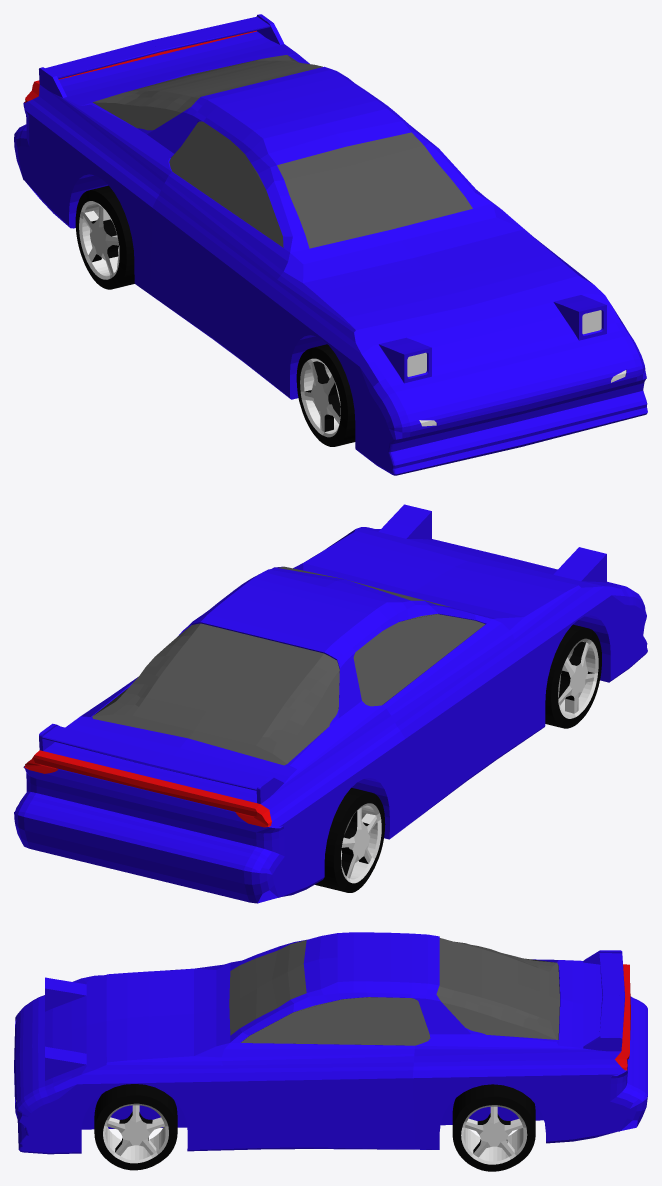
Rendered from auto.fbx.
3 views of the same model, one above another, from view 1: azimuth 30°, elevation 25°; view 2: azimuth 150°, elevation 25°; view 3: azimuth 270°, elevation 25° (orthographic). The views are drawn at different scales.
Visible parts, largest first — view 1: Cube, RA, RV; view 2: Cube, RA, RV; view 3: Cube, LA, LV.
Part boxes in pixels (x1,y1,x2,y2): Cube: (14,14,647,475); RA: (75,185,134,289); RV: (296,344,355,446); Cube: (14,504,647,903); RA: (315,787,385,892); RV: (545,624,601,728); Cube: (14,932,647,1154); LA: (452,1084,535,1171); LV: (94,1084,177,1170).
Bounding box in the file's own units: 581 × 1494 × 426.
